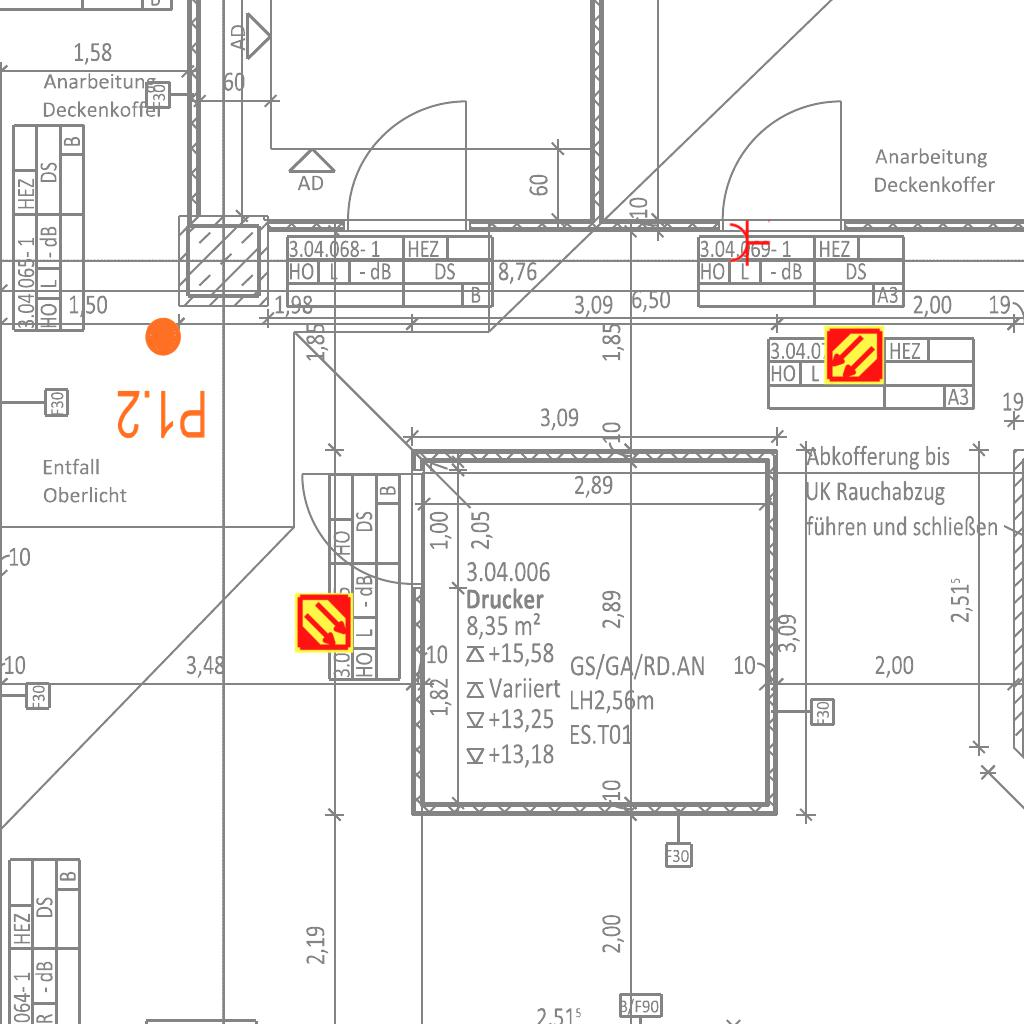ASR_Ansaugrauchmelder: (823, 324, 885, 386), (293, 592, 355, 654)
Downlight_LED_Einbauleuchten_Flur: (115, 314, 208, 442)
Schukosteckdose_einfach: (728, 217, 771, 267)
